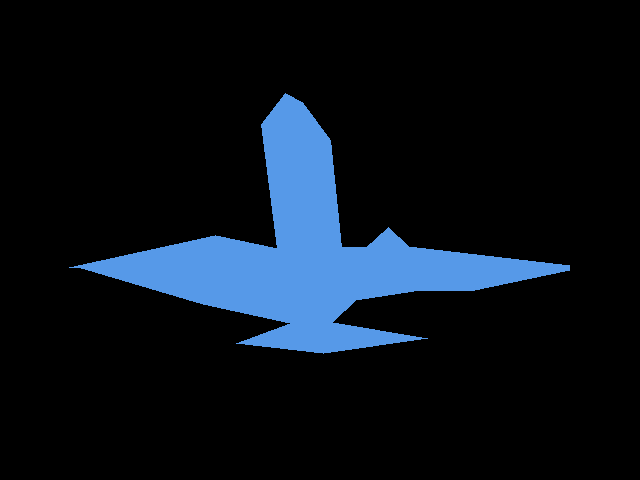Airplane: (69, 93, 569, 354)
